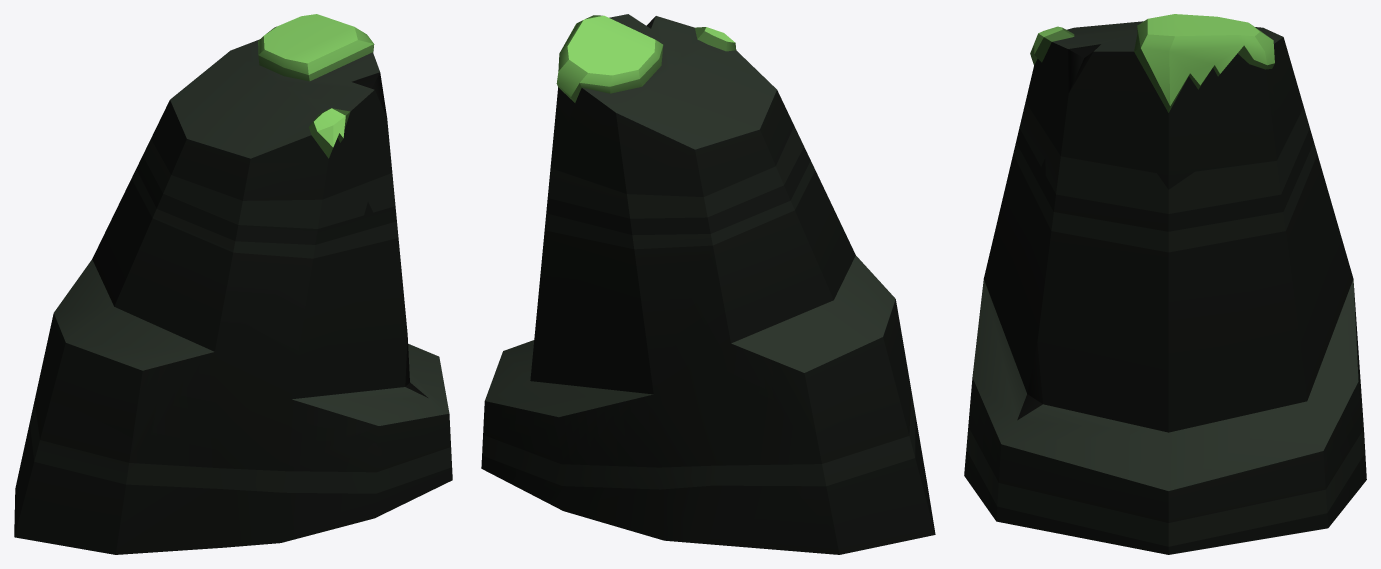
Rendered from Rock_style2_A.fbx.
3 views of the same model, side by side, from view 1: azimuth 30°, elevation 25°; view 2: azimuth 150°, elevation 25°; view 3: azimuth 270°, elevation 25° (orthographic). The views are drawn at different scales.
Visible parts, largest first — view 1: Rock_style2_A; view 2: Rock_style2_A; view 3: Rock_style2_A.
Boxes of the visible parts, x1,y1,x2,y2 form: Rock_style2_A: (14, 14, 452, 554); Rock_style2_A: (481, 14, 935, 554); Rock_style2_A: (964, 14, 1366, 554).
Bounding box in the file's own units: 8.16 × 7.72 × 5.66.
